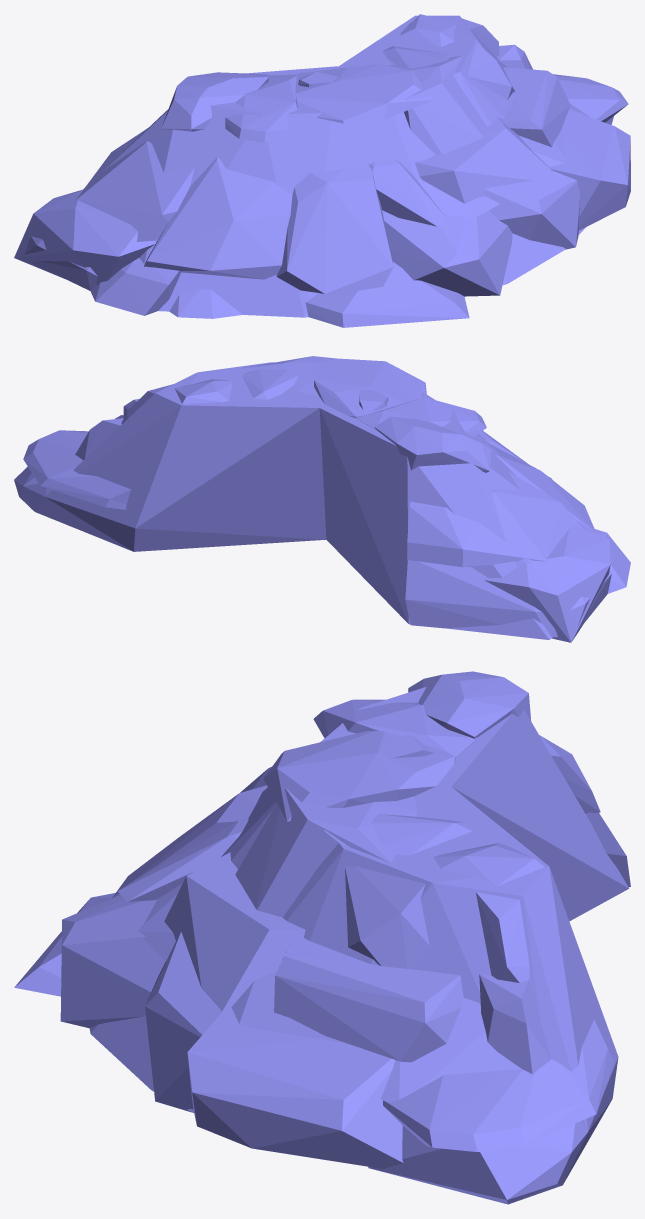
Rendered from Ledge_02_Taper_Collider_01.FBX.
The picture shows the model from 3 angles, top to bottom: view 1: azimuth 30°, elevation 25°; view 2: azimuth 150°, elevation 25°; view 3: azimuth 270°, elevation 25°; orthographic projection. The views are drawn at different scales.
Visible parts, largest first — view 1: COLLIDER1, COLLIDER7, COLLIDER17, COLLIDER10, COLLIDER29, COLLIDER4, COLLIDER2, COLLIDER12, COLLIDER13, COLLIDER9, COLLIDER6, COLLIDER28 (+15 smaller); view 2: COLLIDER29, COLLIDER1, COLLIDER2, COLLIDER22, COLLIDER4, COLLIDER6, COLLIDER11, COLLIDER3, COLLIDER5, COLLIDER7, COLLIDER21, COLLIDER16 (+5 smaller); view 3: COLLIDER29, COLLIDER12, COLLIDER1, COLLIDER15, COLLIDER11, COLLIDER13, COLLIDER10, COLLIDER16, COLLIDER6, COLLIDER27, COLLIDER14, COLLIDER28 (+13 smaller).
Part boxes in pixels (x1,y1,x2,y2): COLLIDER1: (104,66,414,317); COLLIDER7: (144,157,292,279); COLLIDER17: (276,165,393,295); COLLIDER10: (382,210,512,296); COLLIDER29: (339,15,585,285); COLLIDER4: (14,189,155,285); COLLIDER2: (75,128,194,241); COLLIDER12: (549,110,630,230); COLLIDER13: (415,117,552,203); COLLIDER9: (305,261,469,327); COLLIDER6: (295,64,434,123); COLLIDER28: (483,170,580,249); COLLIDER29: (35,362,326,551); COLLIDER1: (319,391,552,639); COLLIDER2: (407,472,582,567); COLLIDER22: (405,558,611,637); COLLIDER4: (484,526,610,642); COLLIDER6: (314,358,426,418); COLLIDER11: (23,430,130,509); COLLIDER3: (374,416,491,472); COLLIDER5: (356,397,486,437); COLLIDER7: (490,444,596,533); COLLIDER21: (242,369,298,399); COLLIDER16: (238,356,337,395); COLLIDER29: (89,786,618,1182); COLLIDER12: (187,1007,403,1168); COLLIDER1: (221,687,628,921); COLLIDER15: (274,937,463,1062); COLLIDER11: (383,1019,613,1152); COLLIDER13: (164,852,305,1011); COLLIDER10: (60,895,165,1028); COLLIDER16: (235,788,417,917); COLLIDER6: (263,730,455,821); COLLIDER27: (138,883,521,1102); COLLIDER14: (368,1120,587,1204); COLLIDER28: (145,931,222,1112).
Bounding box in the file's own units: 510 × 130 × 310.
